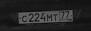license-plateSW: (17, 9, 74, 24)
